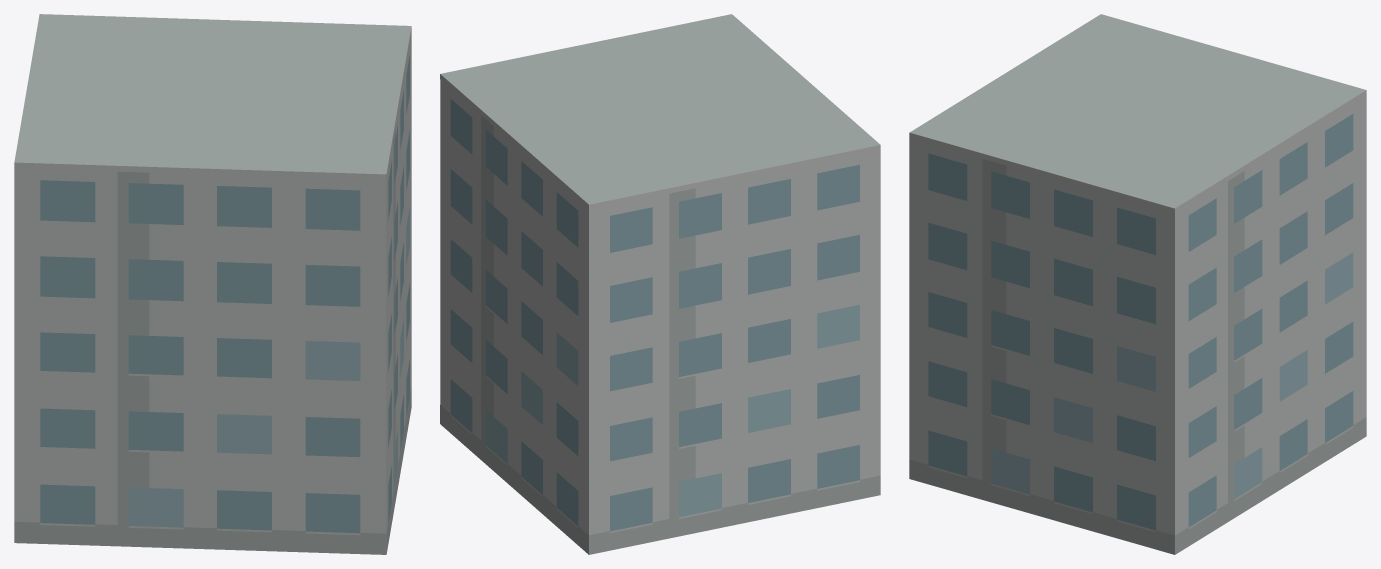
The model's file is survey-upis-32887639.glb.
3 renders of one model, left to right at view 1: azimuth 30°, elevation 25°; view 2: azimuth 150°, elevation 25°; view 3: azimuth 270°, elevation 25°, orthographic. The views are drawn at different scales.
Visible parts, largest first — view 1: survey-upis-32887639.tmp; view 2: survey-upis-32887639.tmp; view 3: survey-upis-32887639.tmp.
Boxes of the visible parts, bbox=[...] form: survey-upis-32887639.tmp: bbox=[14, 14, 411, 554]; survey-upis-32887639.tmp: bbox=[440, 14, 880, 554]; survey-upis-32887639.tmp: bbox=[909, 14, 1366, 554].
Size of the model in its own units: 19.04 by 15.8 by 18.91.
